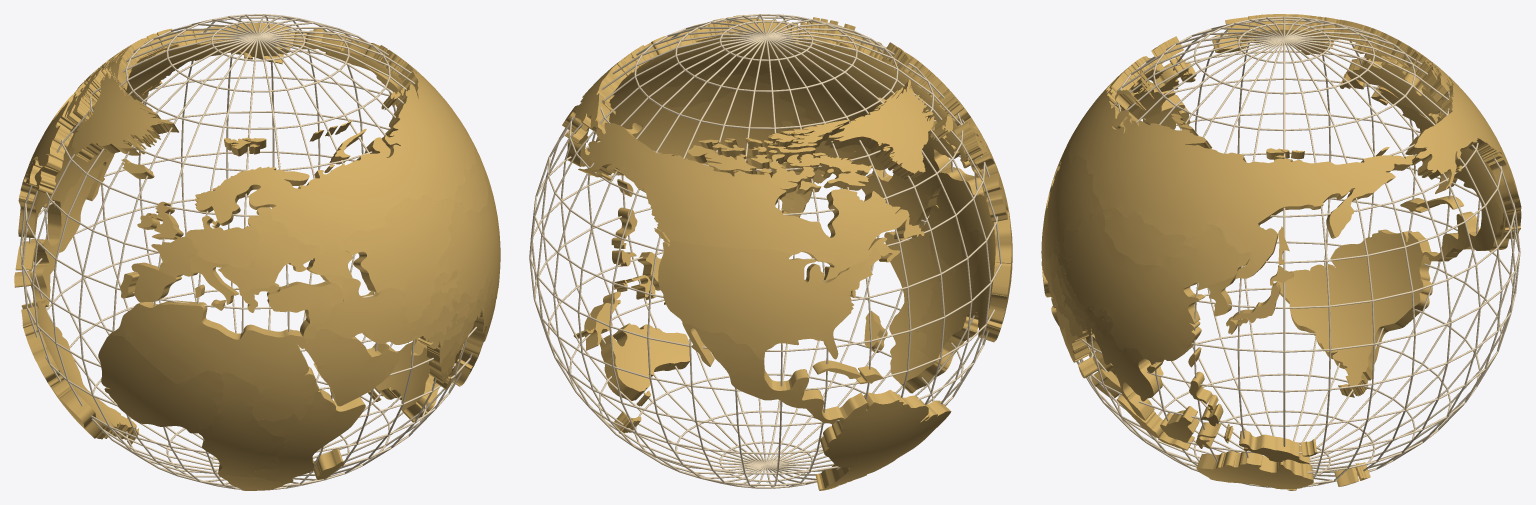
File: earth.glb
The picture shows the model from 3 angles, left to right: view 1: azimuth 30°, elevation 25°; view 2: azimuth 150°, elevation 25°; view 3: azimuth 270°, elevation 25°; orthographic projection.
Parts seen in each view (by area): view 1: wiree.002, Plane.507, Plane.503, Plane.496, Plane.509, Plane.500, Plane.513, Plane.502, Plane.510, Plane.505, Plane.498, Plane.515 (+17 smaller); view 2: wiree.002, Plane.500, Plane.499, Plane.507, Plane.498, Plane.510, Plane.496, Plane.502, Plane.506, Plane.503, Plane.516, Plane.505 (+12 smaller); view 3: wiree.002, Plane.507, Plane.498, Plane.510, Plane.500, Plane.496, Plane.516, Plane.499, Plane.511, Plane.506, Plane.502, Plane.491 (+9 smaller).
Boxes of the visible parts, x1=… form: wiree.002: x1=20, y1=14, x2=476, y2=490; Plane.507: x1=195, y1=30, x2=475, y2=279; Plane.503: x1=109, y1=300, x2=319, y2=421; Plane.496: x1=343, y1=151, x2=487, y2=322; Plane.509: x1=98, y1=335, x2=223, y2=433; Plane.500: x1=26, y1=22, x2=294, y2=186; Plane.513: x1=198, y1=372, x2=285, y2=477; Plane.502: x1=72, y1=72, x2=178, y2=161; Plane.510: x1=21, y1=301, x2=136, y2=439; Plane.505: x1=251, y1=384, x2=365, y2=484; Plane.498: x1=439, y1=126, x2=500, y2=298; Plane.515: x1=304, y1=329, x2=400, y2=406; wiree.002: x1=529, y1=14, x2=1001, y2=488; Plane.500: x1=578, y1=122, x2=909, y2=280; Plane.499: x1=658, y1=240, x2=880, y2=359; Plane.507: x1=562, y1=18, x2=963, y2=133; Plane.498: x1=609, y1=78, x2=805, y2=182; Plane.510: x1=815, y1=389, x2=951, y2=490; Plane.496: x1=647, y1=64, x2=891, y2=152; Plane.502: x1=824, y1=79, x2=934, y2=179; Plane.506: x1=682, y1=323, x2=844, y2=423; Plane.503: x1=927, y1=167, x2=1012, y2=269; Plane.516: x1=599, y1=323, x2=691, y2=400; Plane.505: x1=884, y1=222, x2=955, y2=358; wiree.002: x1=1076, y1=16, x2=1520, y2=487; Plane.507: x1=1053, y1=56, x2=1415, y2=279; Plane.498: x1=1063, y1=210, x2=1250, y2=364; Plane.510: x1=1277, y1=229, x2=1432, y2=396; Plane.500: x1=1347, y1=53, x2=1501, y2=193; Plane.496: x1=1044, y1=145, x2=1195, y2=265; Plane.516: x1=1196, y1=450, x2=1313, y2=489; Plane.499: x1=1390, y1=101, x2=1521, y2=214; Plane.511: x1=1096, y1=317, x2=1162, y2=420; Plane.506: x1=1423, y1=201, x2=1521, y2=261; Plane.502: x1=1225, y1=14, x2=1366, y2=54; Plane.491: x1=1160, y1=406, x2=1199, y2=442.
Bounding box in the file's own units: 0.612 × 0.612 × 0.6219.
